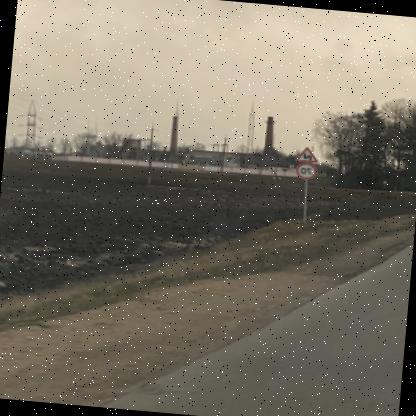speedlimit: (298, 163, 318, 179)
